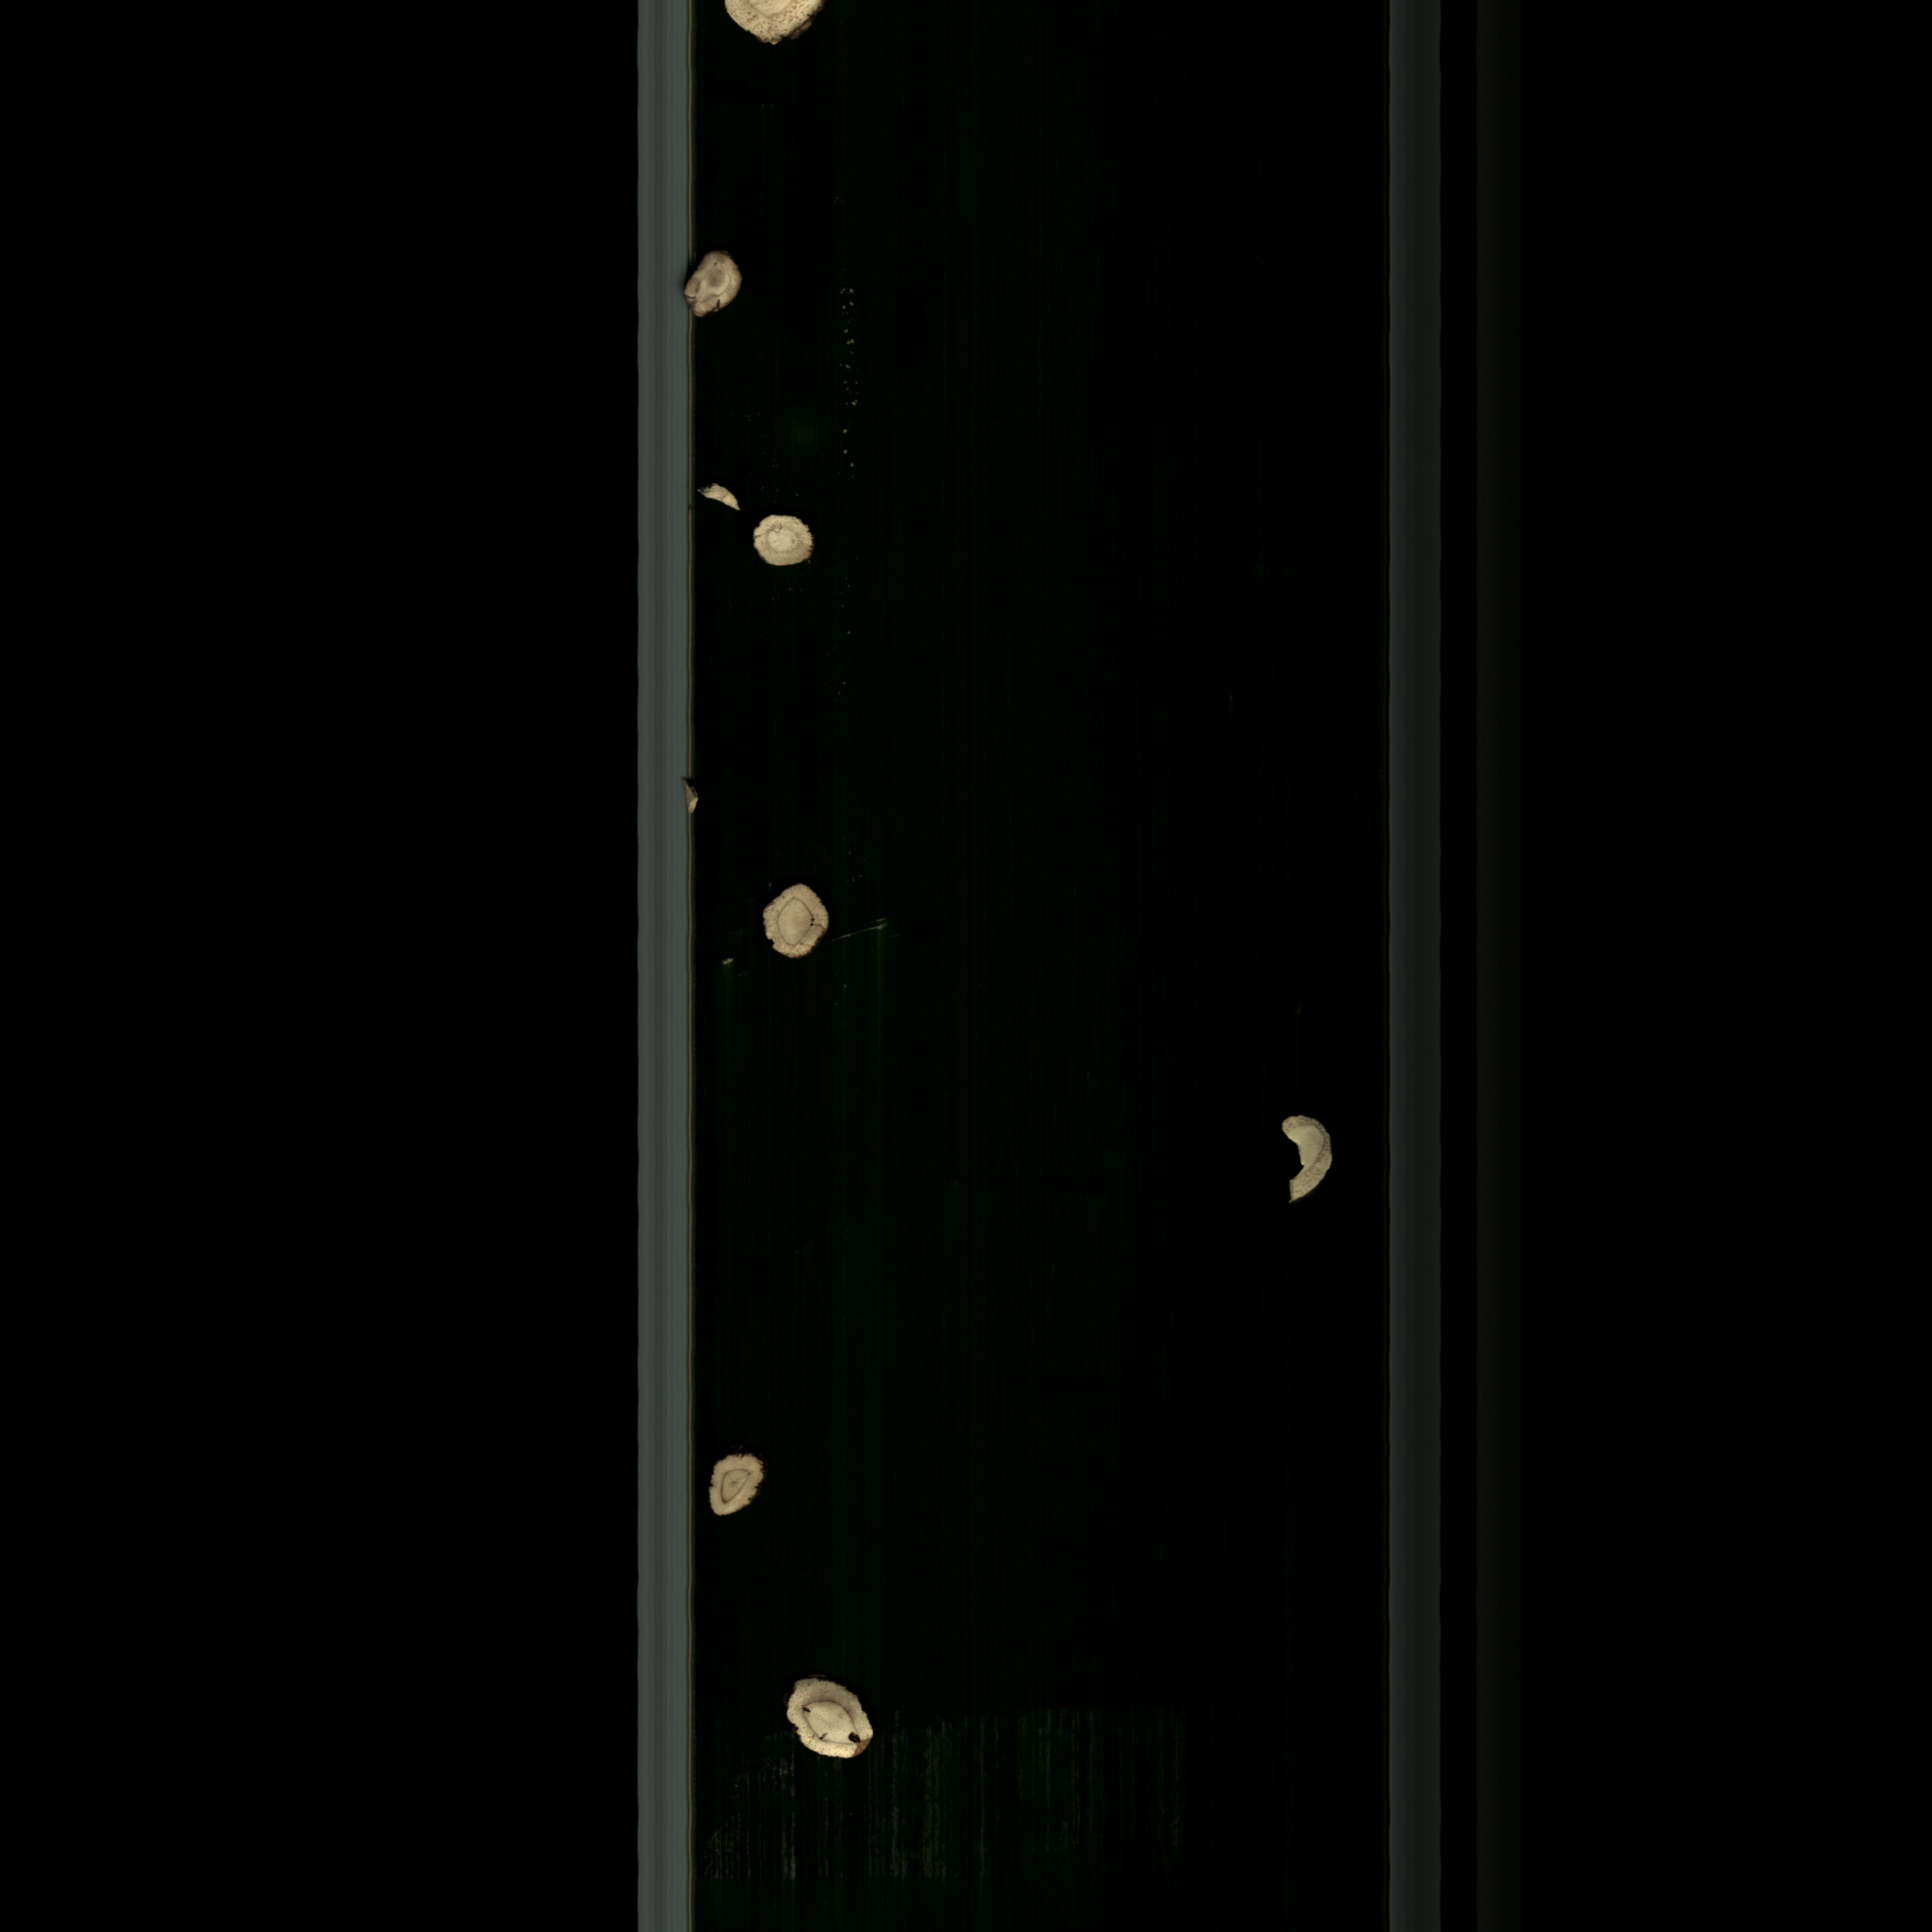debris: (1256, 1099, 1348, 1223)
dreg: (674, 771, 725, 824), (695, 483, 747, 522)
hole: (743, 1660, 893, 1780)
moldy: (688, 1433, 805, 1539), (674, 237, 764, 333), (755, 874, 839, 968)
